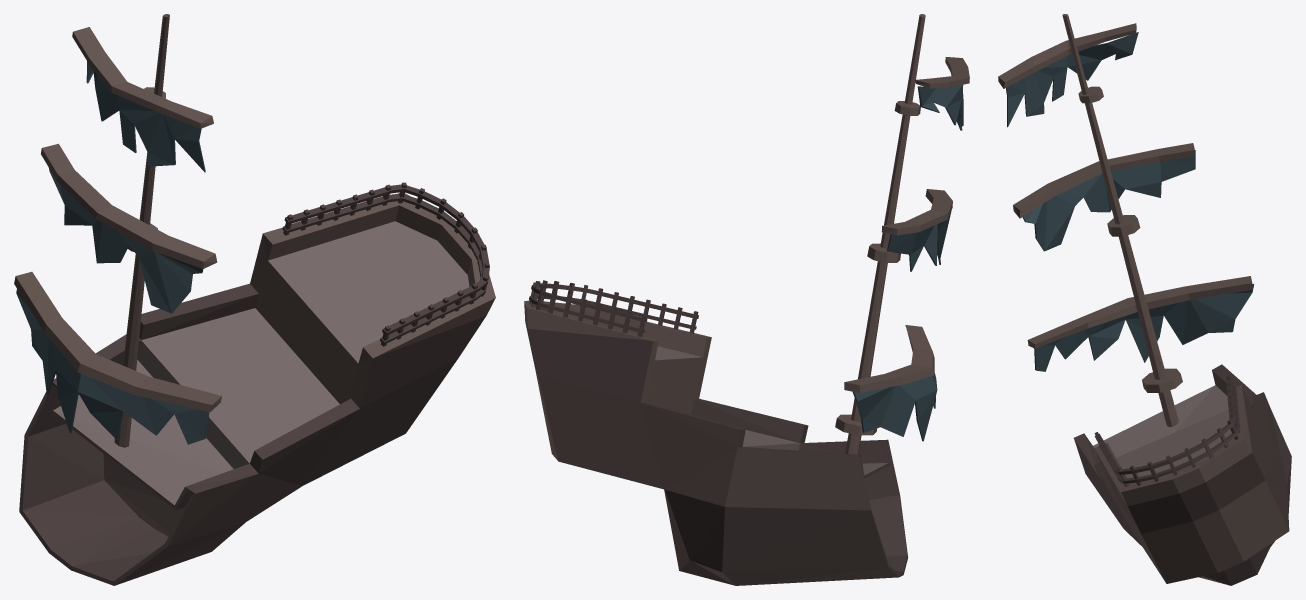
The model's file is Ship_022.fbx.
The picture shows the model from 3 angles, left to right: view 1: azimuth 30°, elevation 25°; view 2: azimuth 150°, elevation 25°; view 3: azimuth 270°, elevation 25°; orthographic projection. The views are drawn at different scales.
Parts seen in each view (by area): view 1: Ship_022; view 2: Ship_022; view 3: Ship_022.
Part boxes in pixels (x1,y1,x2,y2): Ship_022: [14, 14, 495, 585]; Ship_022: [524, 14, 969, 585]; Ship_022: [998, 14, 1291, 585].
Size of the model in its own units: 921 by 647 by 1242.
1 material, 1 textured.
